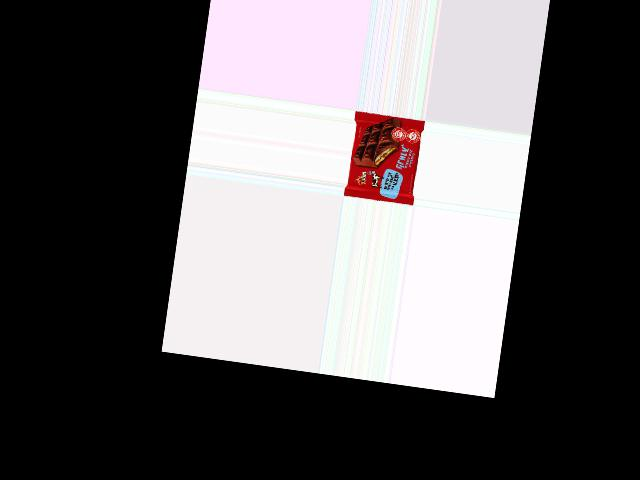chocolate: (345, 112, 425, 202)
